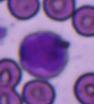M: (18, 31, 68, 79)
